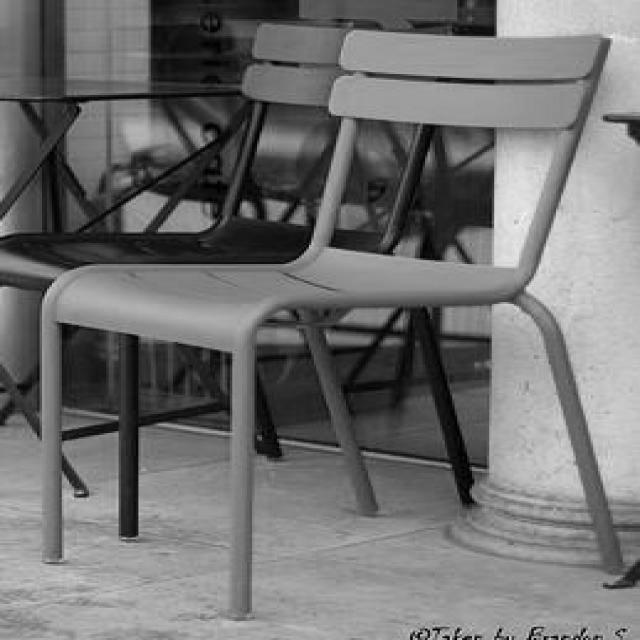chair: (43, 30, 624, 618)
